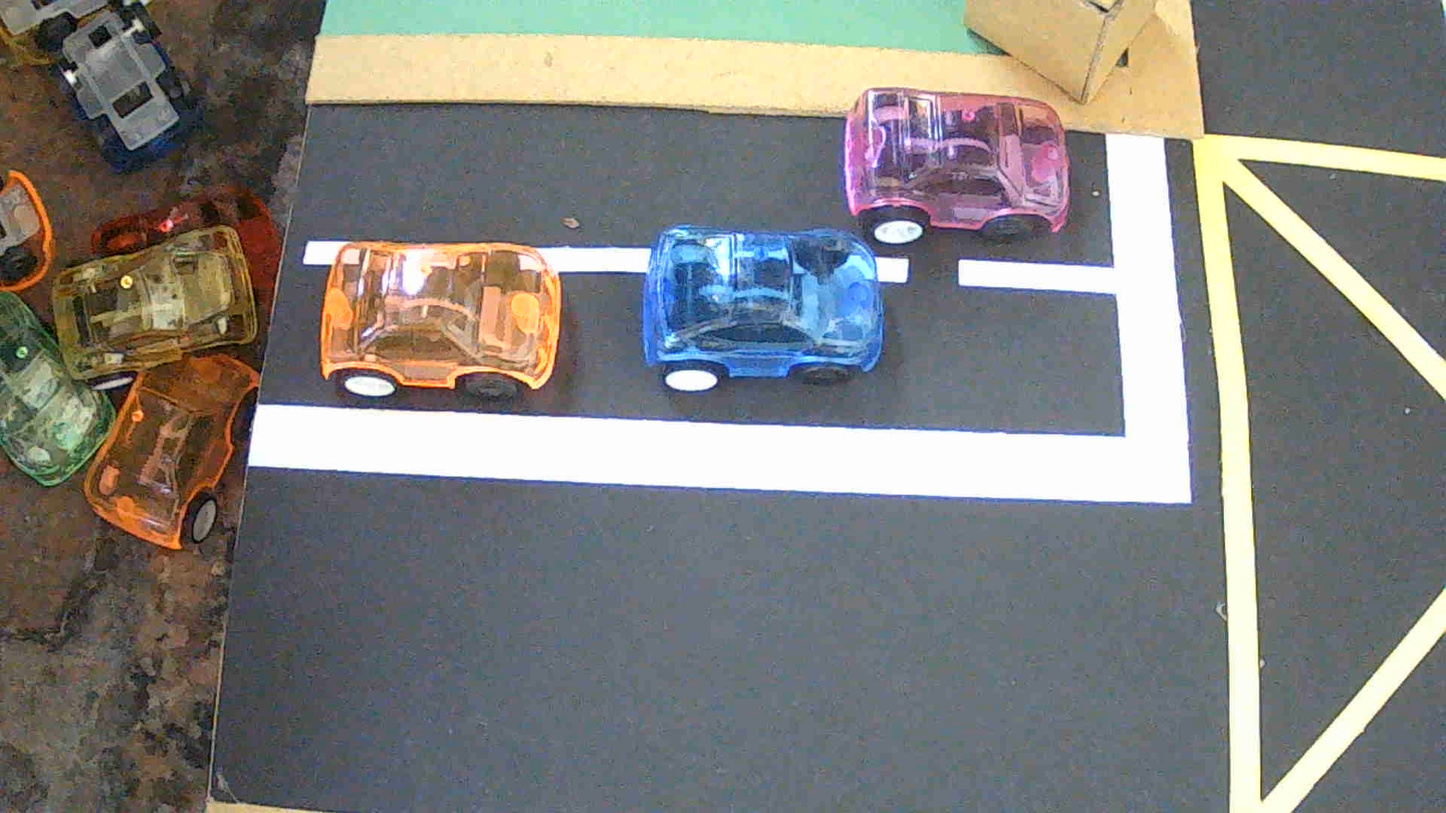Mobil biru: (641, 225, 884, 391)
Mobil orange: (319, 242, 560, 398)
Mobil ungu: (844, 87, 1070, 245)
